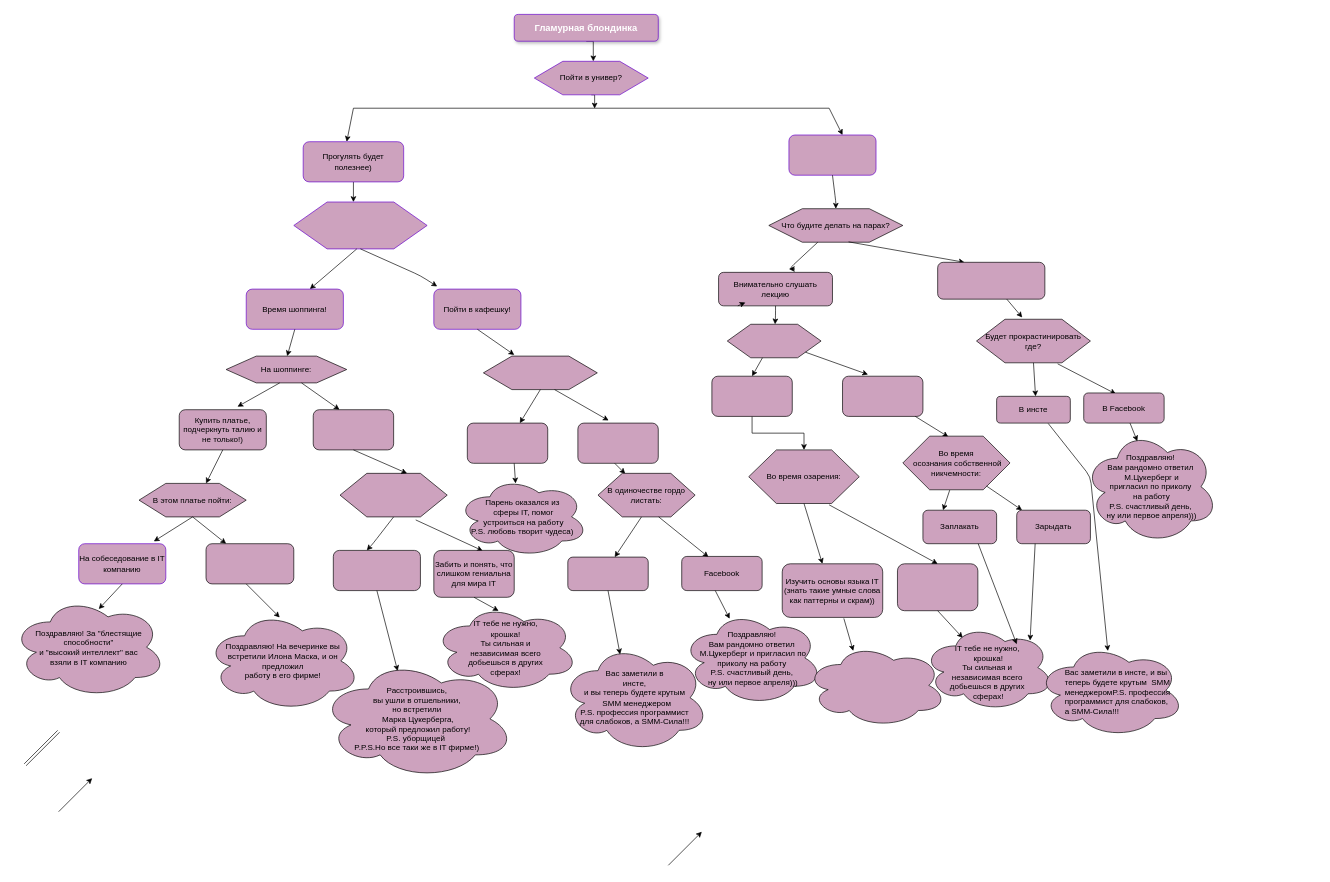
The diagram is 1330 pixels wide and 882 high, and some of its shapes have lost their labels. The shapes that lost their labels are listed below. From the top down, each one's centre as x and y in pixels, then its label:
At [832,154]: "yes of course Знание-сила!".
At [360,225]: "Если прогулять, то весело и с приключениями!".
At [991,280]: "Просидеть в соц сетях".
At [774,341]: "На парах в универе:".
At [540,372]: "К тебе подошел молодой человек".
At [751,396]: "Получит озарение, ну с кем не бывает)".
At [882,396]: "Понять, что ты ничего не понимаешь))".
At [353,429]: "Ничего не купить(((".
At [507,442]: "Познакомиться)))".
At [617,442]: "Отшить)))".
At [393,495]: "Что делать?! никакаих покупок = концу света".
At [249,563]: "На вечеринку".
At [376,570]: "Расстроиться и понять, что никчёмный".
At [607,573]: "Инстаграмм".
At [937,587]: "Решить, что ты слишком гениальна для мира IT".
At [875,685]: "Поздравляю! Вы случайным непонятным способом попали на работу в IT фирму".
